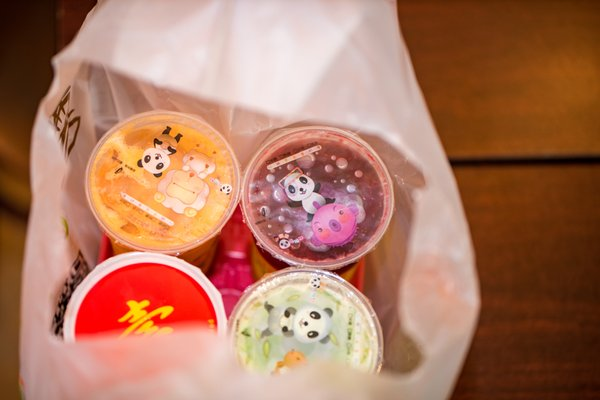sushi: (86, 109, 241, 269), (238, 124, 395, 272), (228, 269, 383, 378)
